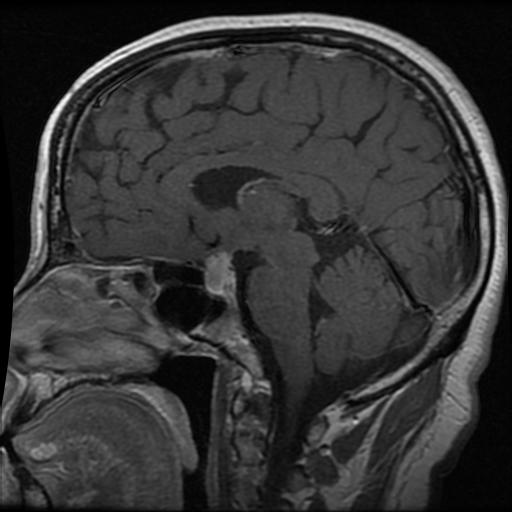Pituirity_tumour: (206, 252, 232, 296)
